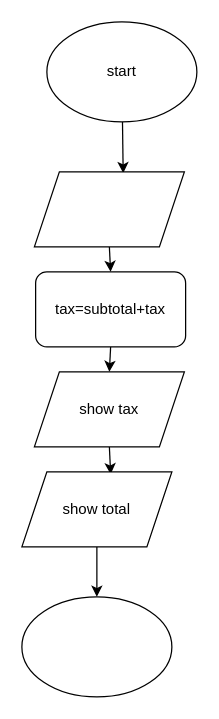
This 219x719 diagram has some shape labels left out. Each missing label, with the centre of its shape:
"get subtotal" belongs at (108,209).
"stop" belongs at (96,646).
